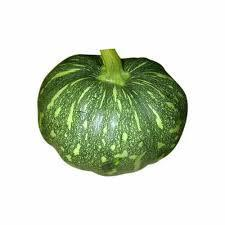pumpkin: (36, 47, 188, 176)
